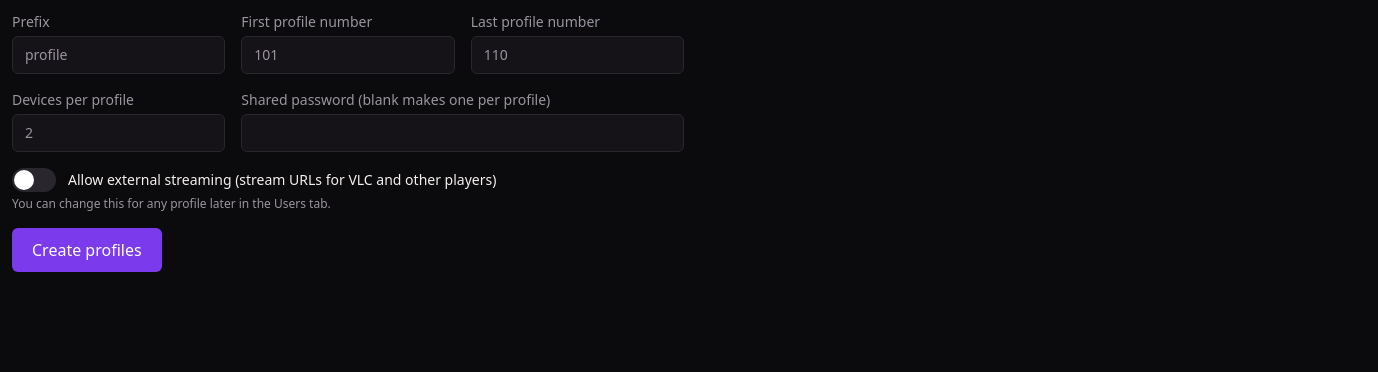
Test: RoomsTab (Profiles) › tells the admin profiles are being created and blocks a second click
Replace the text in the number field labelled "First profile number" with "125" at x=348, y=55, box [241, 36, 455, 74]
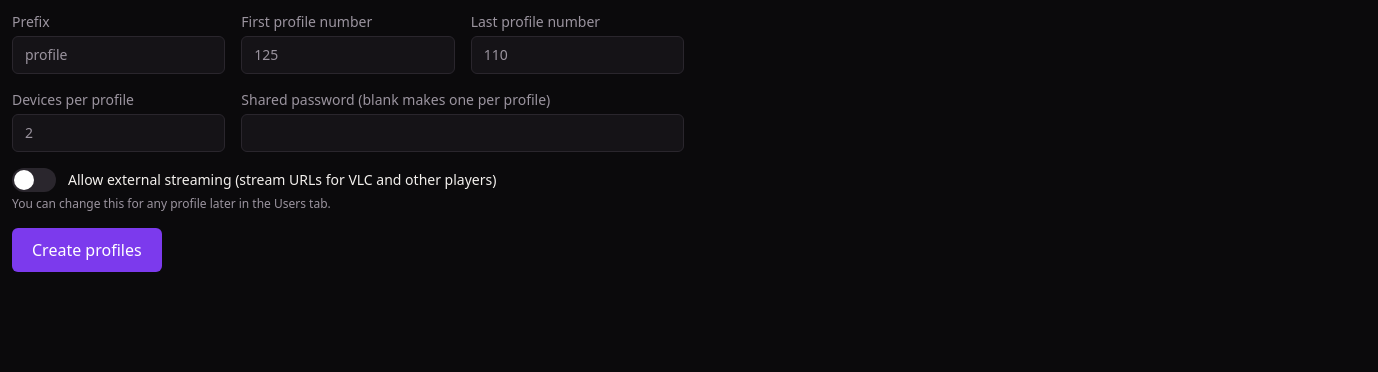
Replace the text in the number field labelled "Last profile number" with "200" at x=577, y=55, box [471, 36, 684, 74]
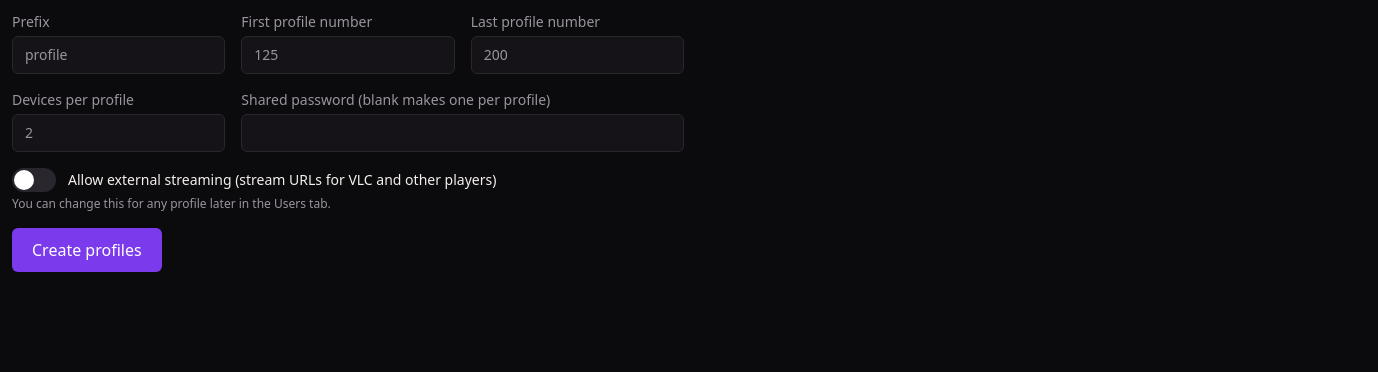
Click the button "Create profiles" at x=87, y=250, box [12, 228, 162, 272]
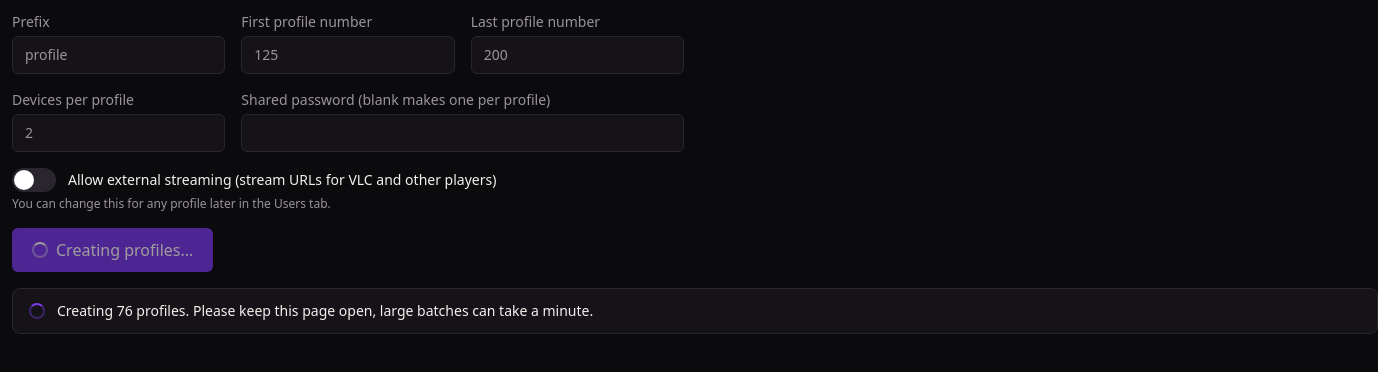
expect the message shows "Creating 76 profiles": met, box [12, 288, 1377, 334]
expect the button "Creating profiles..." is disabled: met
Click the button "Creating profiles..." at x=113, y=250, box [12, 228, 213, 272]
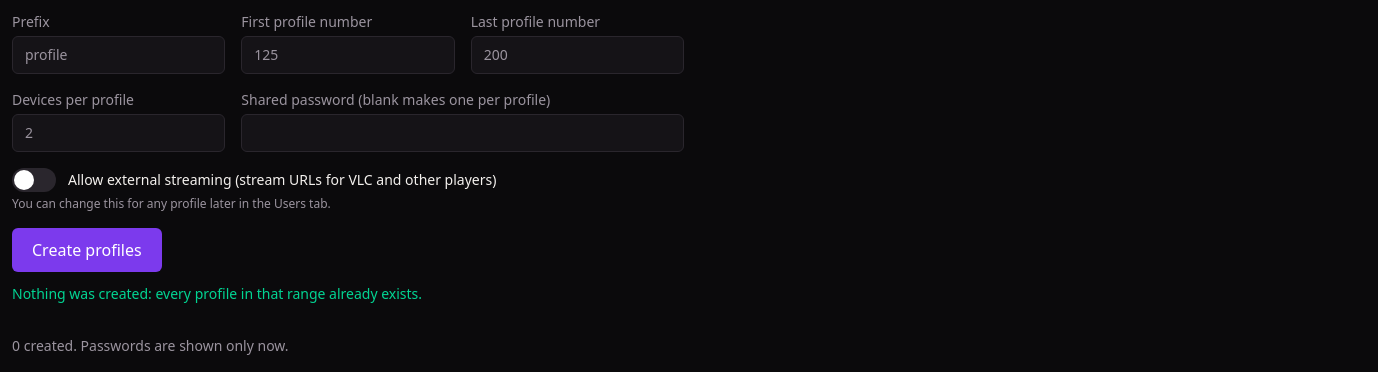
expect the text "Creating 76 profiles" is gone: met
